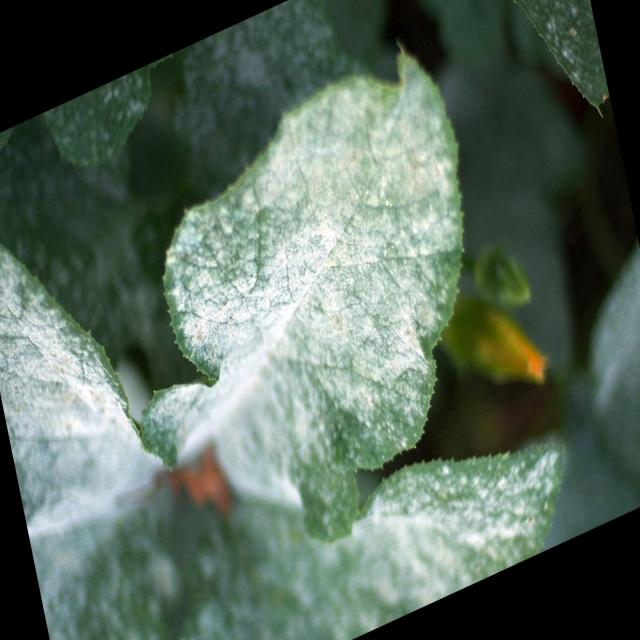Powdery Mildew: (140, 38, 466, 541)
